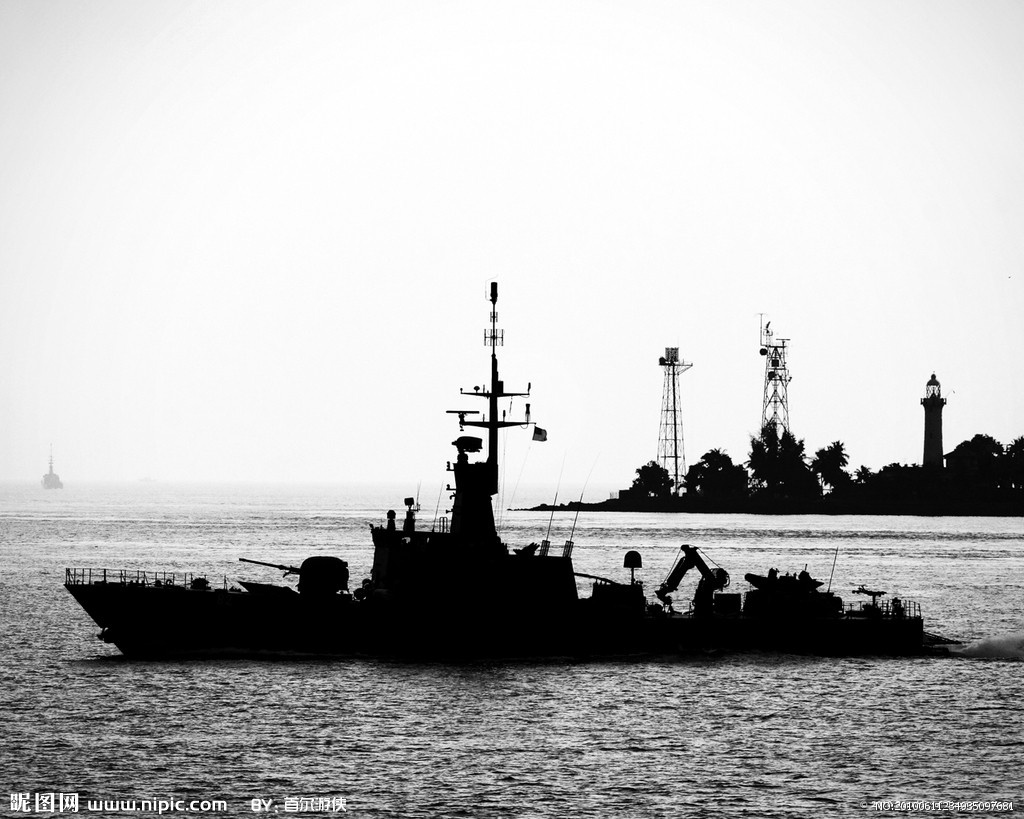warship: (54, 281, 906, 670)
